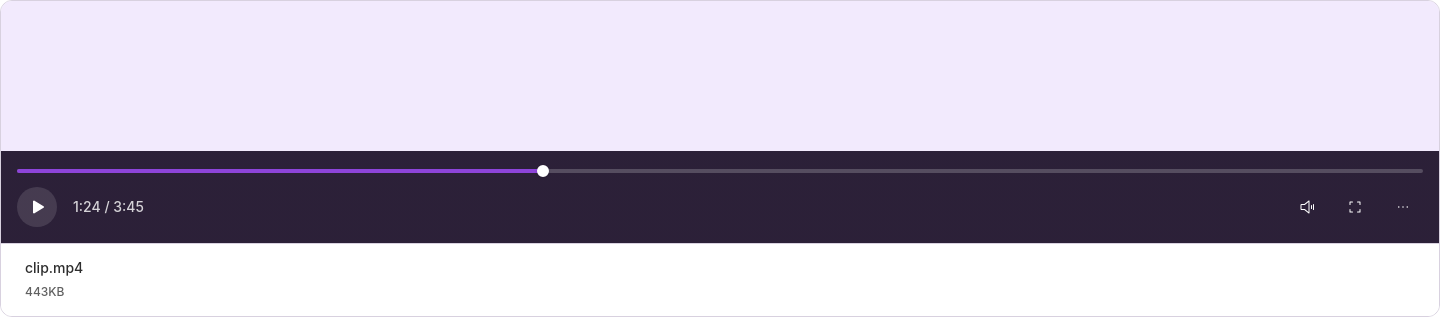
Media › video player shows the time, toggles play and mutes
Check: the text "1:24 / 3:45" is shown, box [73, 199, 144, 215]
Check: the slider named "Seek" is shown, box [537, 165, 549, 177]
Click the button named "Play" at (37, 207), box [17, 187, 57, 227]
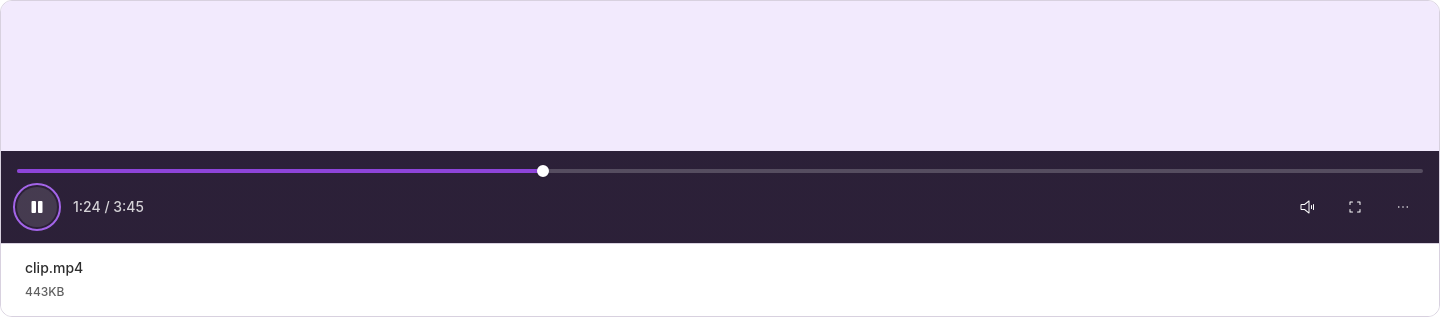
Check: the button named "Pause" is shown, box [17, 187, 57, 227]
Click the button named "Mute" at (1307, 207), box [1287, 187, 1327, 227]
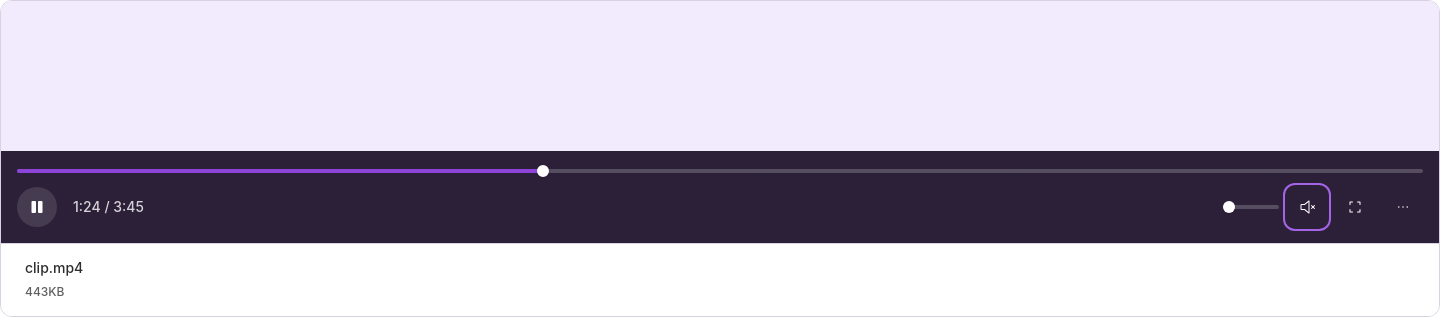
Check: the button named "Unmute" is shown, box [1287, 187, 1327, 227]
